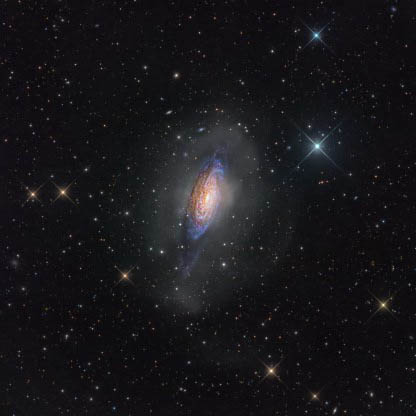NGC 3521: (96, 70, 327, 327)
